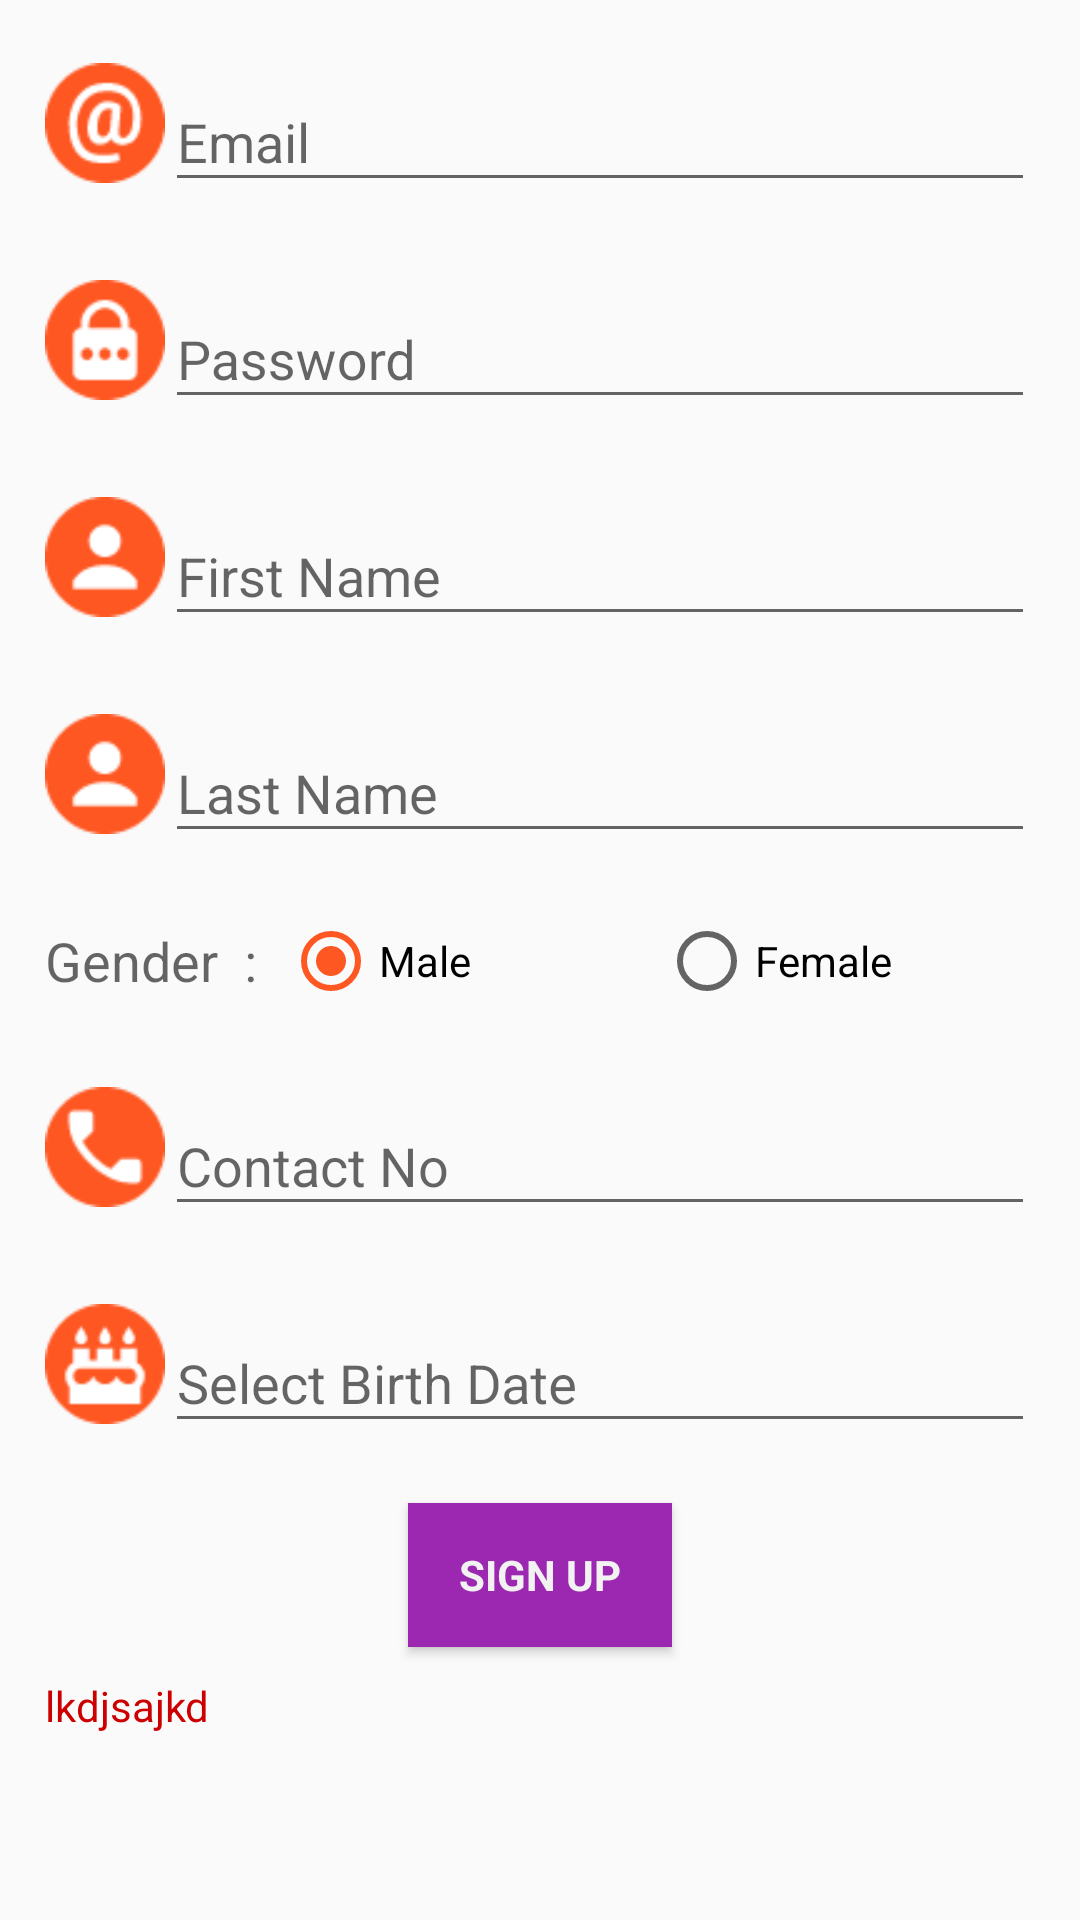

Icons on this 1080w x 1920h Android screen, each with its box as (x1, y1, x2, y2):
dob: (45, 1304, 165, 1424)
user: (45, 497, 165, 617), (45, 714, 165, 834)
